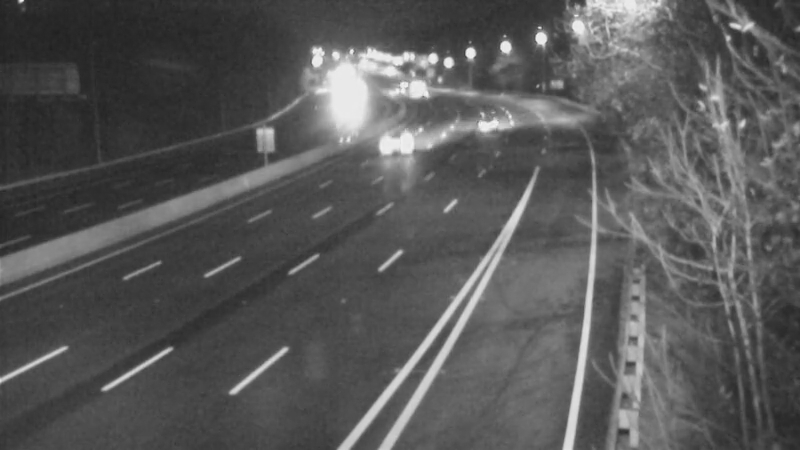vehicle: (369, 66, 419, 116), (459, 94, 509, 144), (369, 125, 419, 175)
